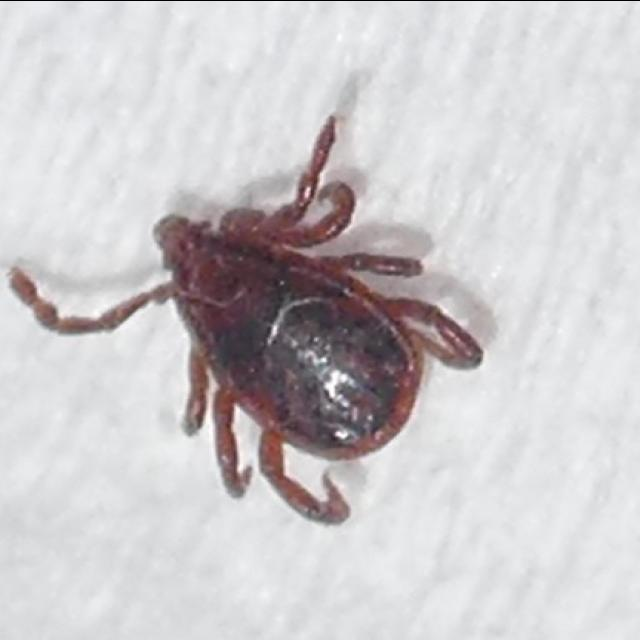Rhipicephalus Sanguineus-M: (6, 114, 483, 526)
